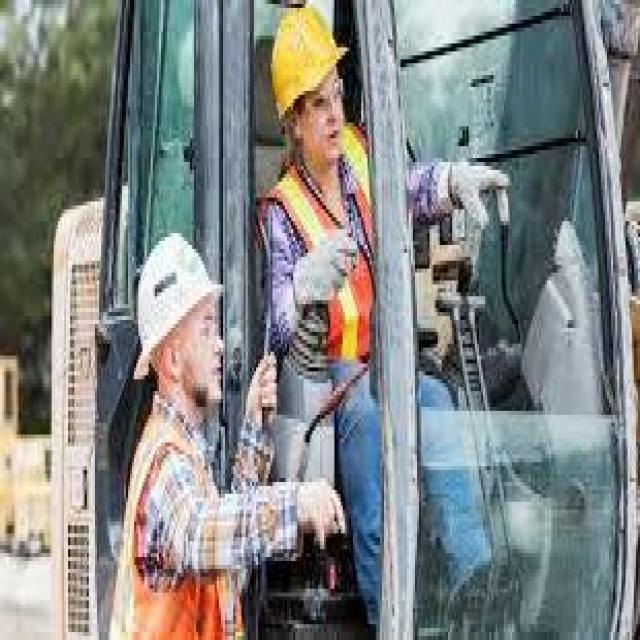Reflective-Jacket: (258, 138, 392, 391), (113, 395, 250, 640)
Safety-Helmet: (128, 222, 227, 368), (264, 4, 355, 130)
